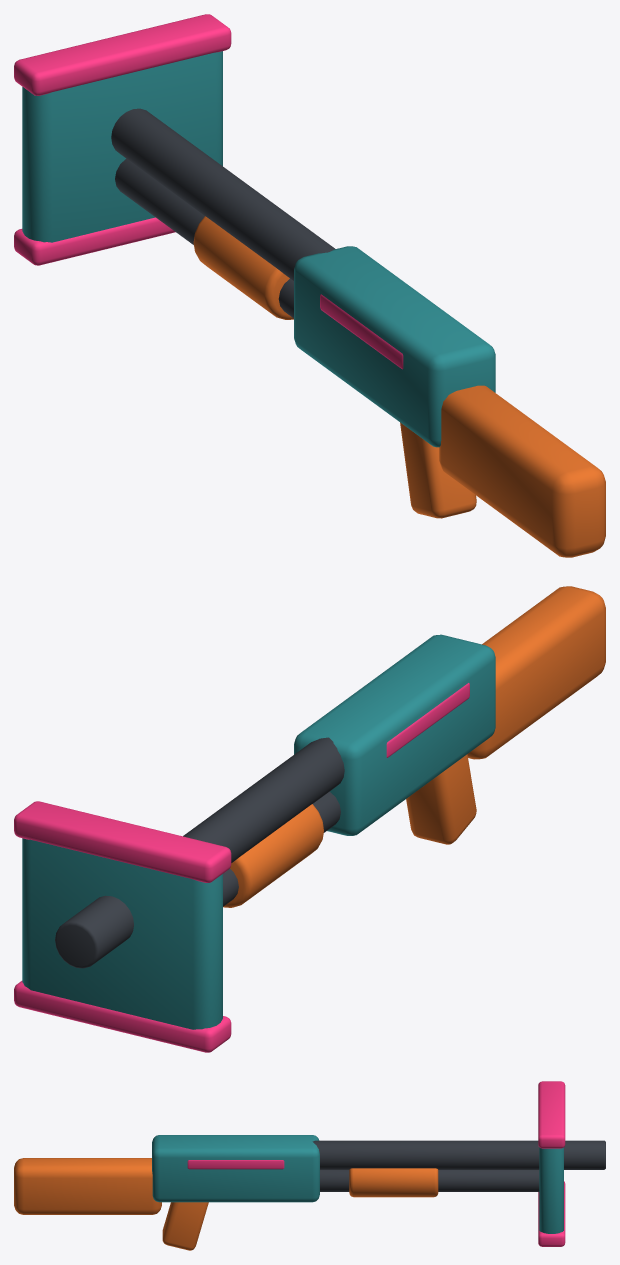
The model's file is shotgun.glb.
3 renders of one model, top to bottom at view 1: azimuth 30°, elevation 25°; view 2: azimuth 150°, elevation 25°; view 3: azimuth 270°, elevation 25°, orthographic. The views are drawn at different scales.
Visible parts, largest first — view 1: RamPlate, Receiver, Stock, Barrel, RamEdge, Pump, Grip, Tube, RamEdgeB, RecvStripe; view 2: RamPlate, Receiver, Stock, Barrel, RamEdge, RamEdgeB, Pump, Grip, RecvStripe, Tube; view 3: Receiver, Stock, Barrel, Tube, Pump, RamPlate, RamEdge, Grip, RecvStripe, RamEdgeB.
Part boxes in pixels (bbox=[...]): RamPlate: bbox=[22, 51, 222, 242]; Receiver: bbox=[294, 246, 495, 447]; Stock: bbox=[439, 385, 605, 557]; Barrel: bbox=[111, 108, 335, 280]; RamEdge: bbox=[14, 14, 231, 95]; Pump: bbox=[193, 216, 293, 319]; Grip: bbox=[400, 422, 476, 518]; Tube: bbox=[115, 158, 293, 318]; RamEdgeB: bbox=[14, 217, 175, 265]; RecvStripe: bbox=[320, 294, 403, 369]; RamPlate: bbox=[22, 838, 222, 1029]; Receiver: bbox=[294, 634, 495, 835]; Stock: bbox=[467, 586, 605, 759]; Barrel: bbox=[55, 737, 344, 968]; RamEdge: bbox=[14, 801, 231, 882]; RamEdgeB: bbox=[14, 981, 231, 1052]; Pump: bbox=[223, 804, 323, 907]; Grip: bbox=[406, 754, 476, 844]; RecvStripe: bbox=[386, 683, 469, 757]; Tube: bbox=[223, 791, 340, 906]; Receiver: bbox=[152, 1135, 319, 1202]; Stock: bbox=[14, 1158, 161, 1214]; Barrel: bbox=[312, 1140, 605, 1169]; Tube: bbox=[320, 1170, 539, 1191]; Pump: bbox=[349, 1168, 438, 1197]; RamPlate: bbox=[539, 1147, 563, 1233]; RamEdge: bbox=[538, 1081, 565, 1148]; Grip: bbox=[162, 1202, 208, 1250]; RecvStripe: bbox=[187, 1160, 284, 1169]; RamEdgeB: bbox=[538, 1181, 565, 1246].
Bounding box in the file's own units: 0.27 × 0.3086 × 1.2.
